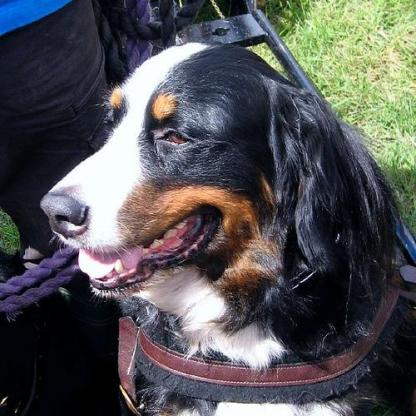Bernese_mountain_dog: (38, 40, 414, 413)
